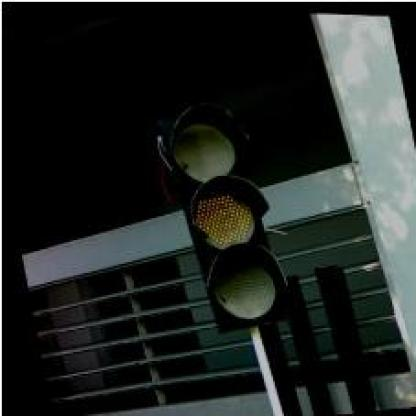yellow: (154, 100, 286, 329)
